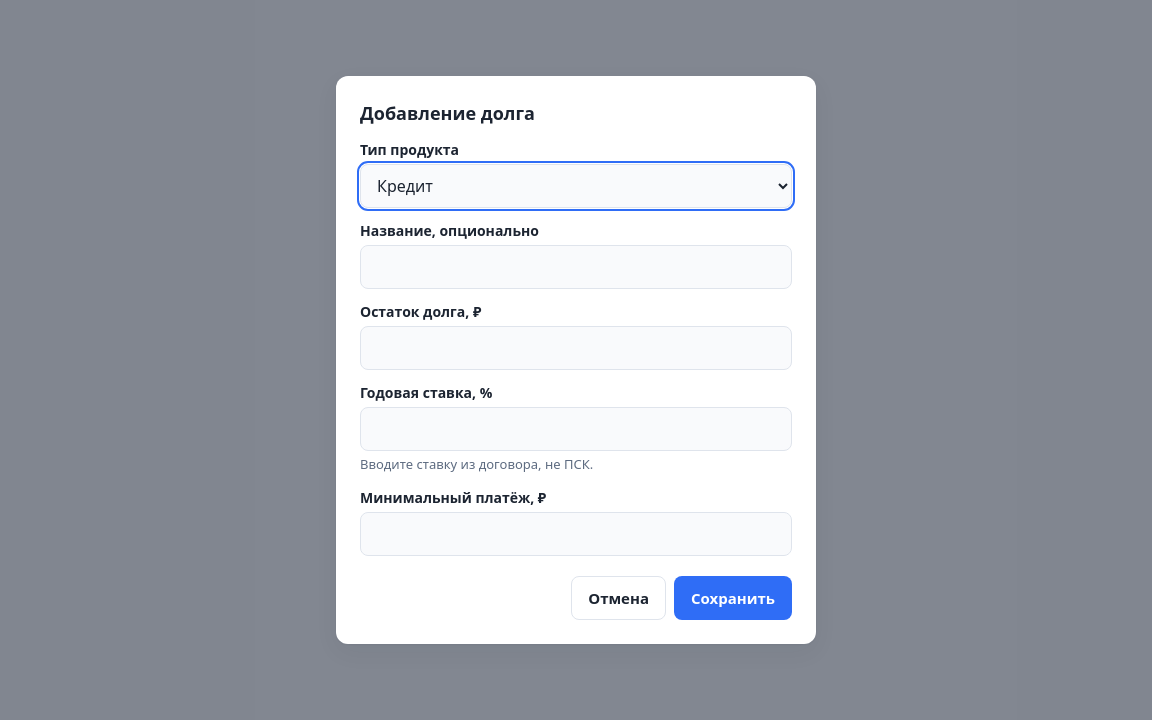
Test: FE-007: валидация формы добавления долга › не принимает остаток и минимальный платёж меньше 0,01
The width and height of the screenshot is (1152, 720).
Type "0.001" into the number field labelled "Остаток долга, ₽" at (576, 348), box [360, 326, 792, 370]
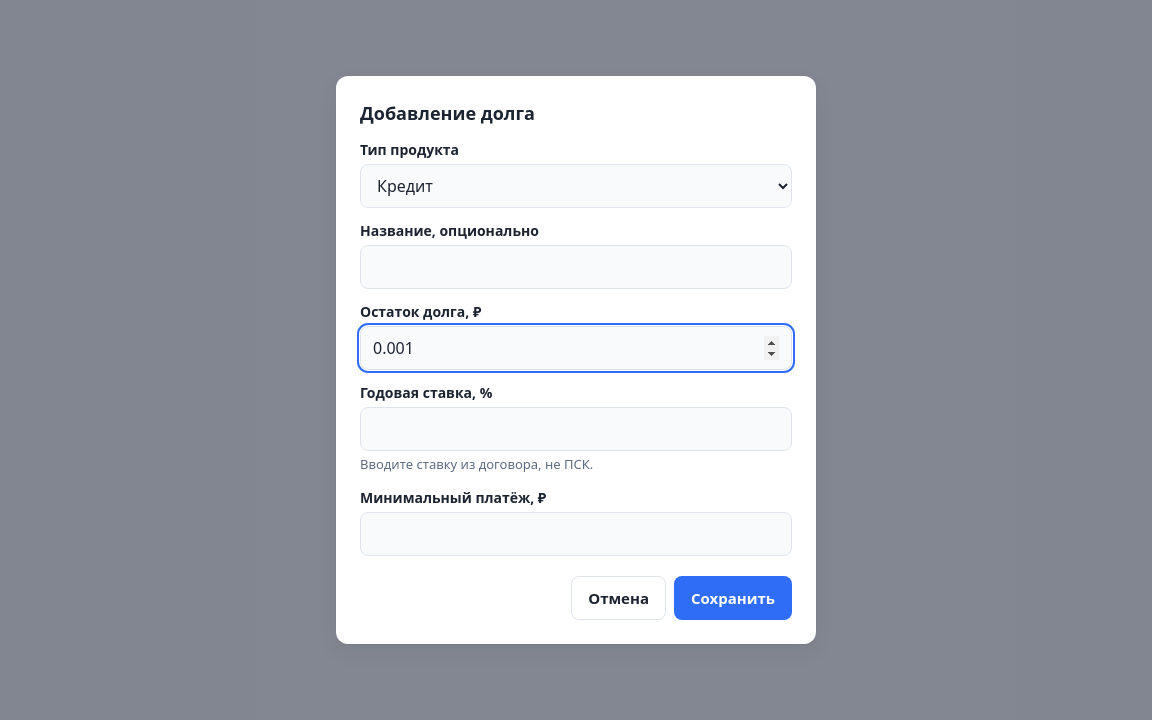
Type "10" into the number field labelled "Годовая ставка, %" at (576, 429), box [360, 407, 792, 451]
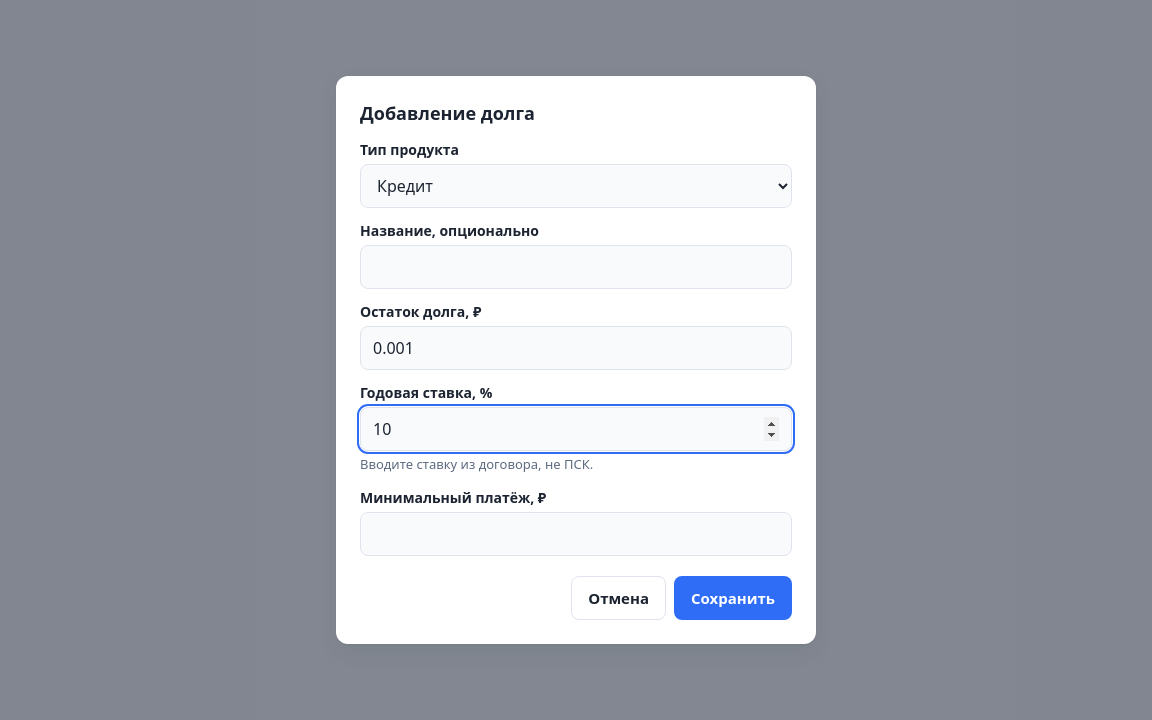
Type "0.001" into the number field labelled "Минимальный платёж, ₽" at (576, 534), box [360, 512, 792, 556]
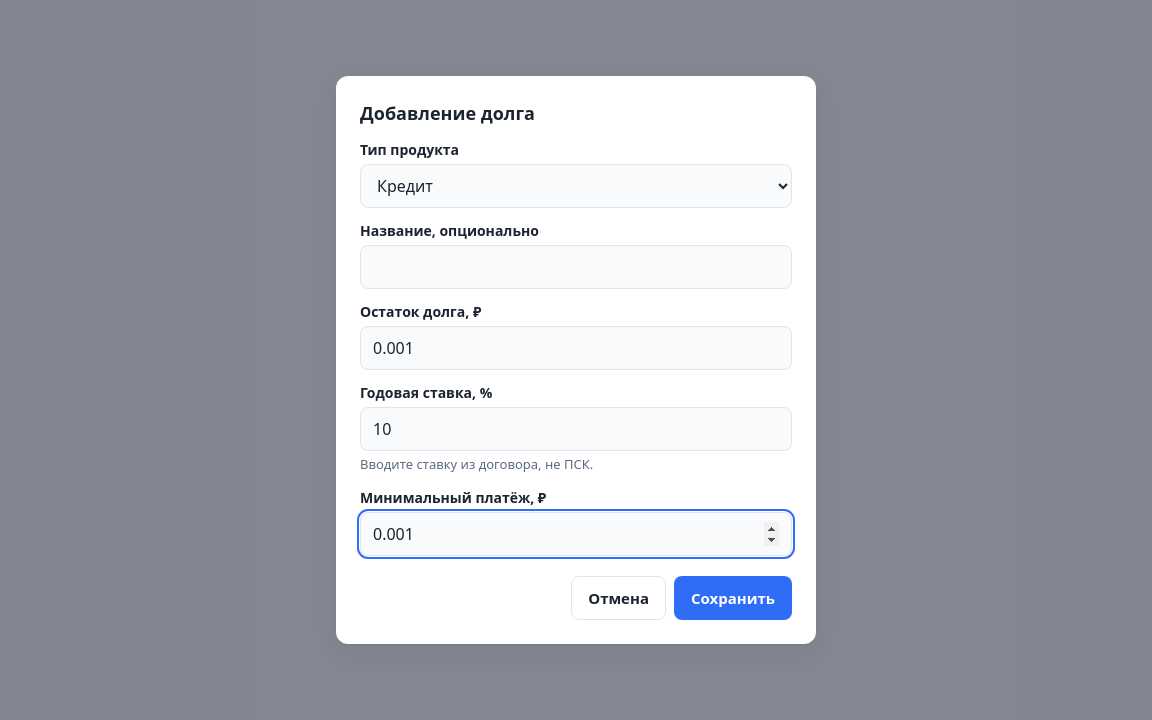
Click the button "Сохранить" at (733, 598), box [674, 576, 792, 620]
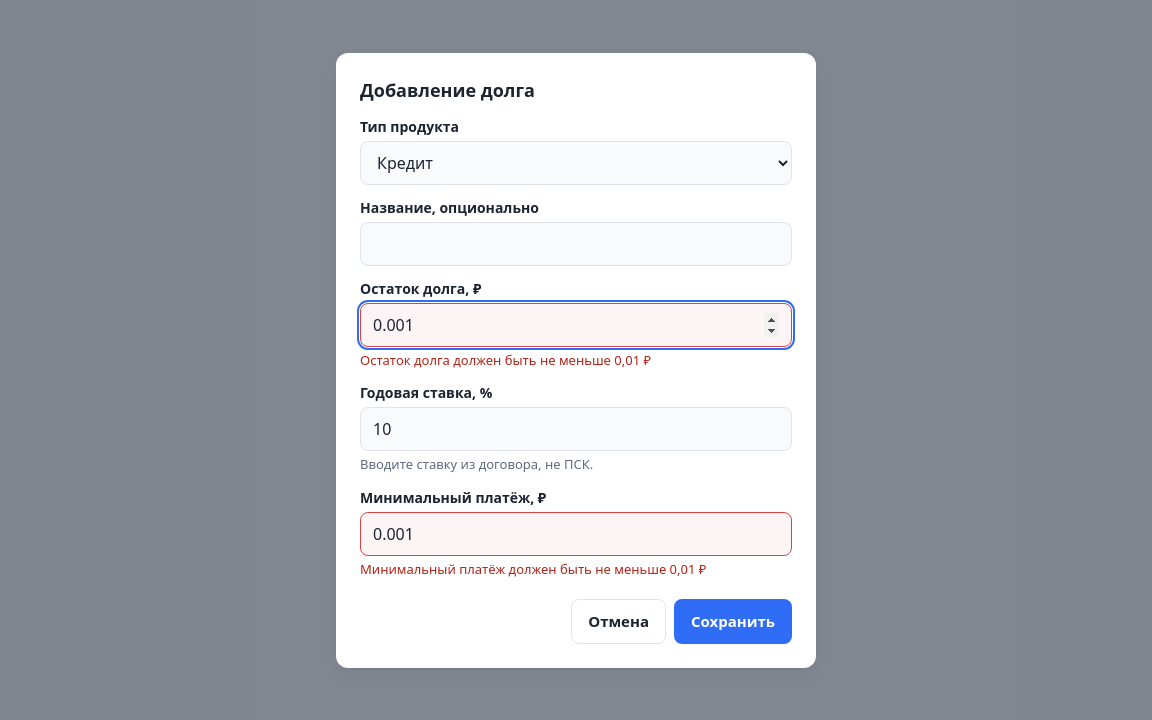
Result: the text "Остаток долга должен быть не меньше 0,01 ₽" is shown at [360, 350, 651, 368]
Result: the text "Минимальный платёж должен быть не меньше 0,01 ₽" is shown at [360, 560, 706, 578]
